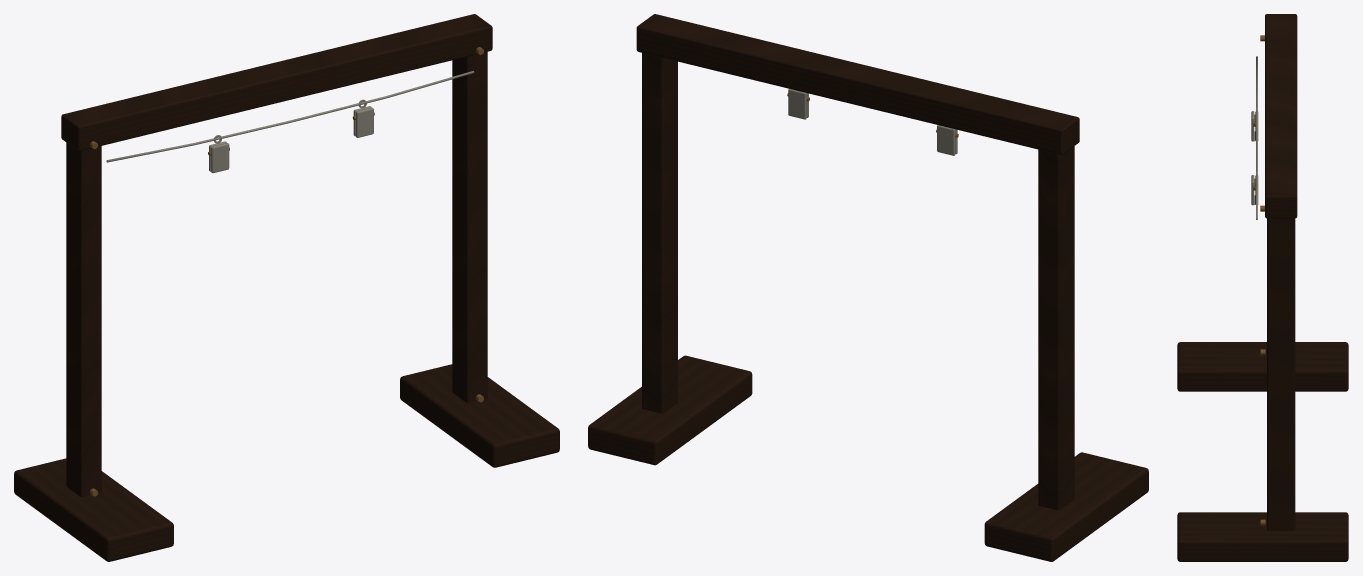
File: C11_PhotoDryingRack.fbx
The picture shows the model from 3 angles, left to right: view 1: azimuth 30°, elevation 25°; view 2: azimuth 150°, elevation 25°; view 3: azimuth 270°, elevation 25°; orthographic projection. The views are drawn at different scales.
Parts seen in each view (by area): view 1: Body_Mesh; view 2: Body_Mesh, MotionPivot_Mesh; view 3: Body_Mesh.
Boxes of the visible parts, x1,y1,x2,y2 form: Body_Mesh: [14, 14, 559, 561]; Body_Mesh: [588, 14, 1148, 561]; MotionPivot_Mesh: [787, 88, 958, 155]; Body_Mesh: [1177, 14, 1348, 561].
Size of the model in its own units: 0.47 by 0.3925 by 0.17.
